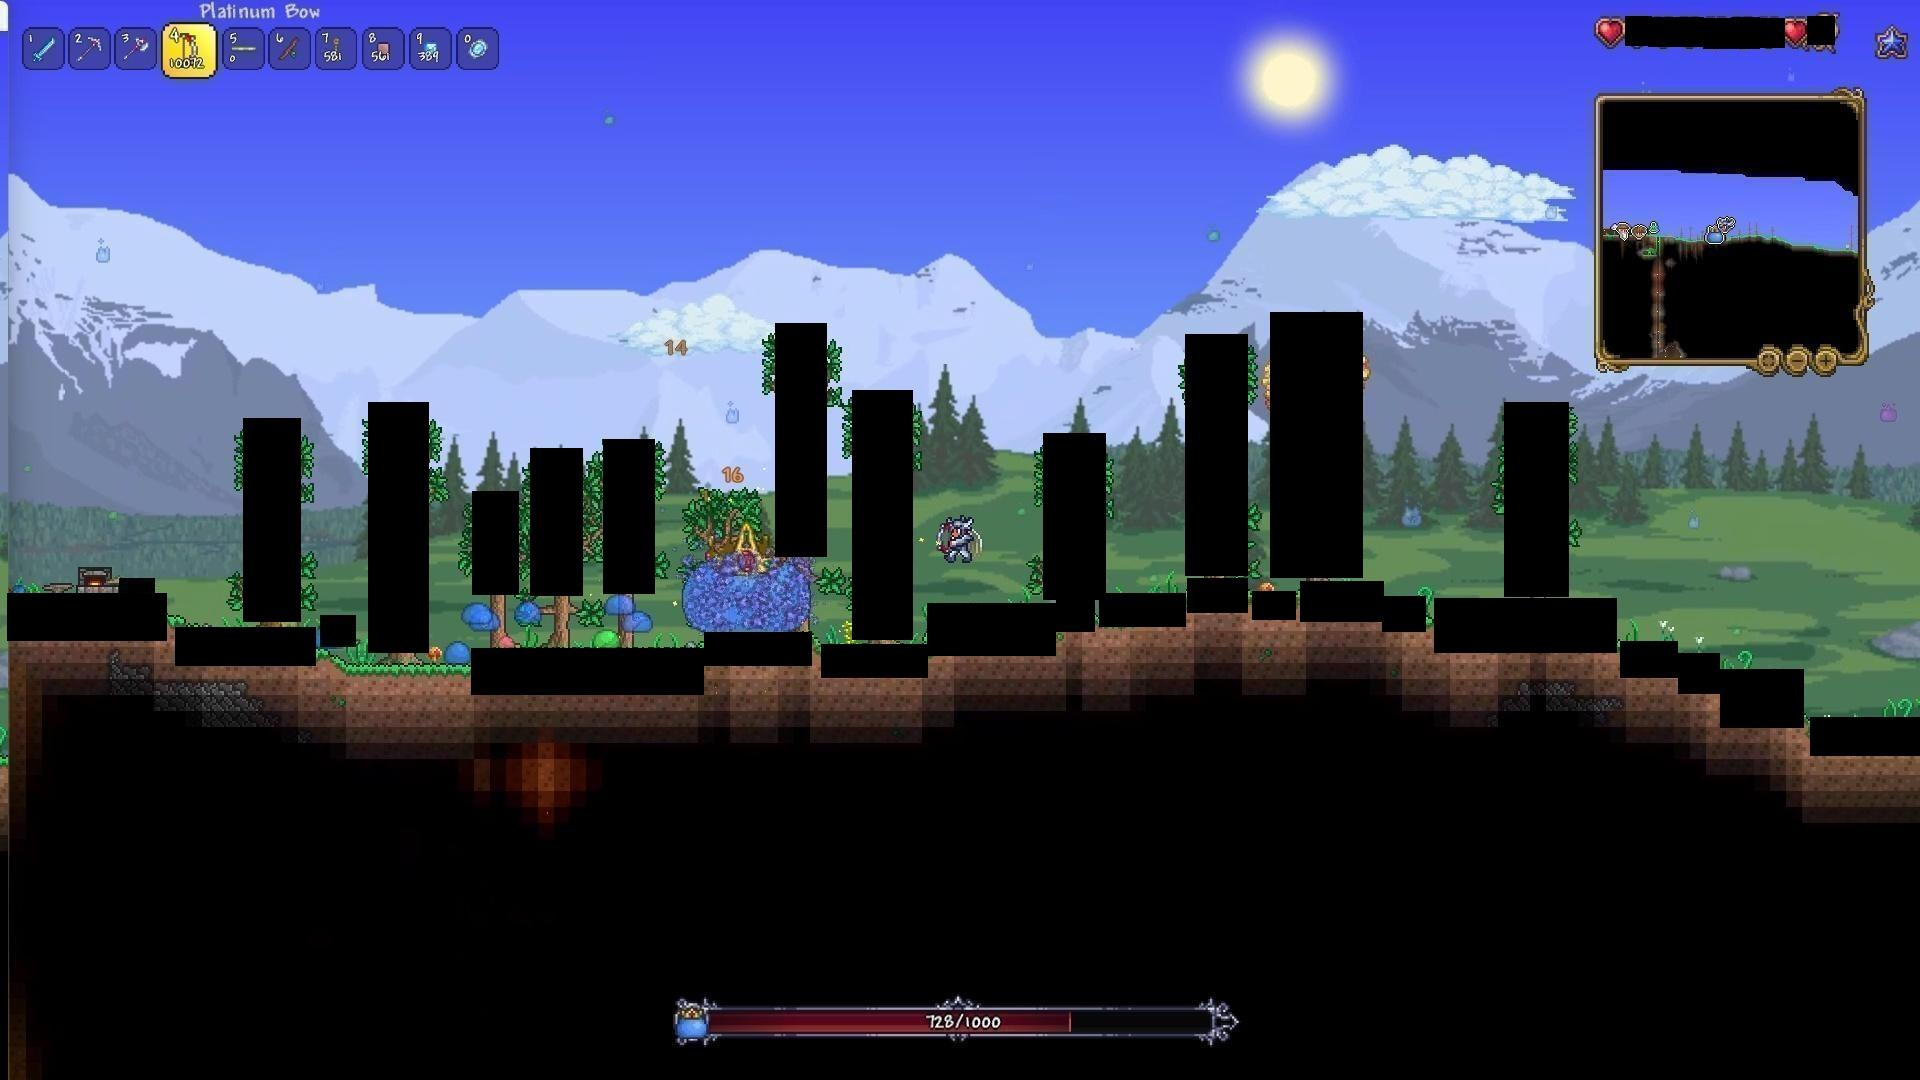dirt: (335, 654, 469, 690)
heart: (1597, 16, 1627, 44), (1783, 18, 1811, 47)
slime: (440, 636, 473, 669), (599, 593, 638, 618), (620, 613, 659, 637), (516, 600, 546, 629), (458, 603, 496, 622), (593, 629, 621, 654), (495, 636, 518, 650)
